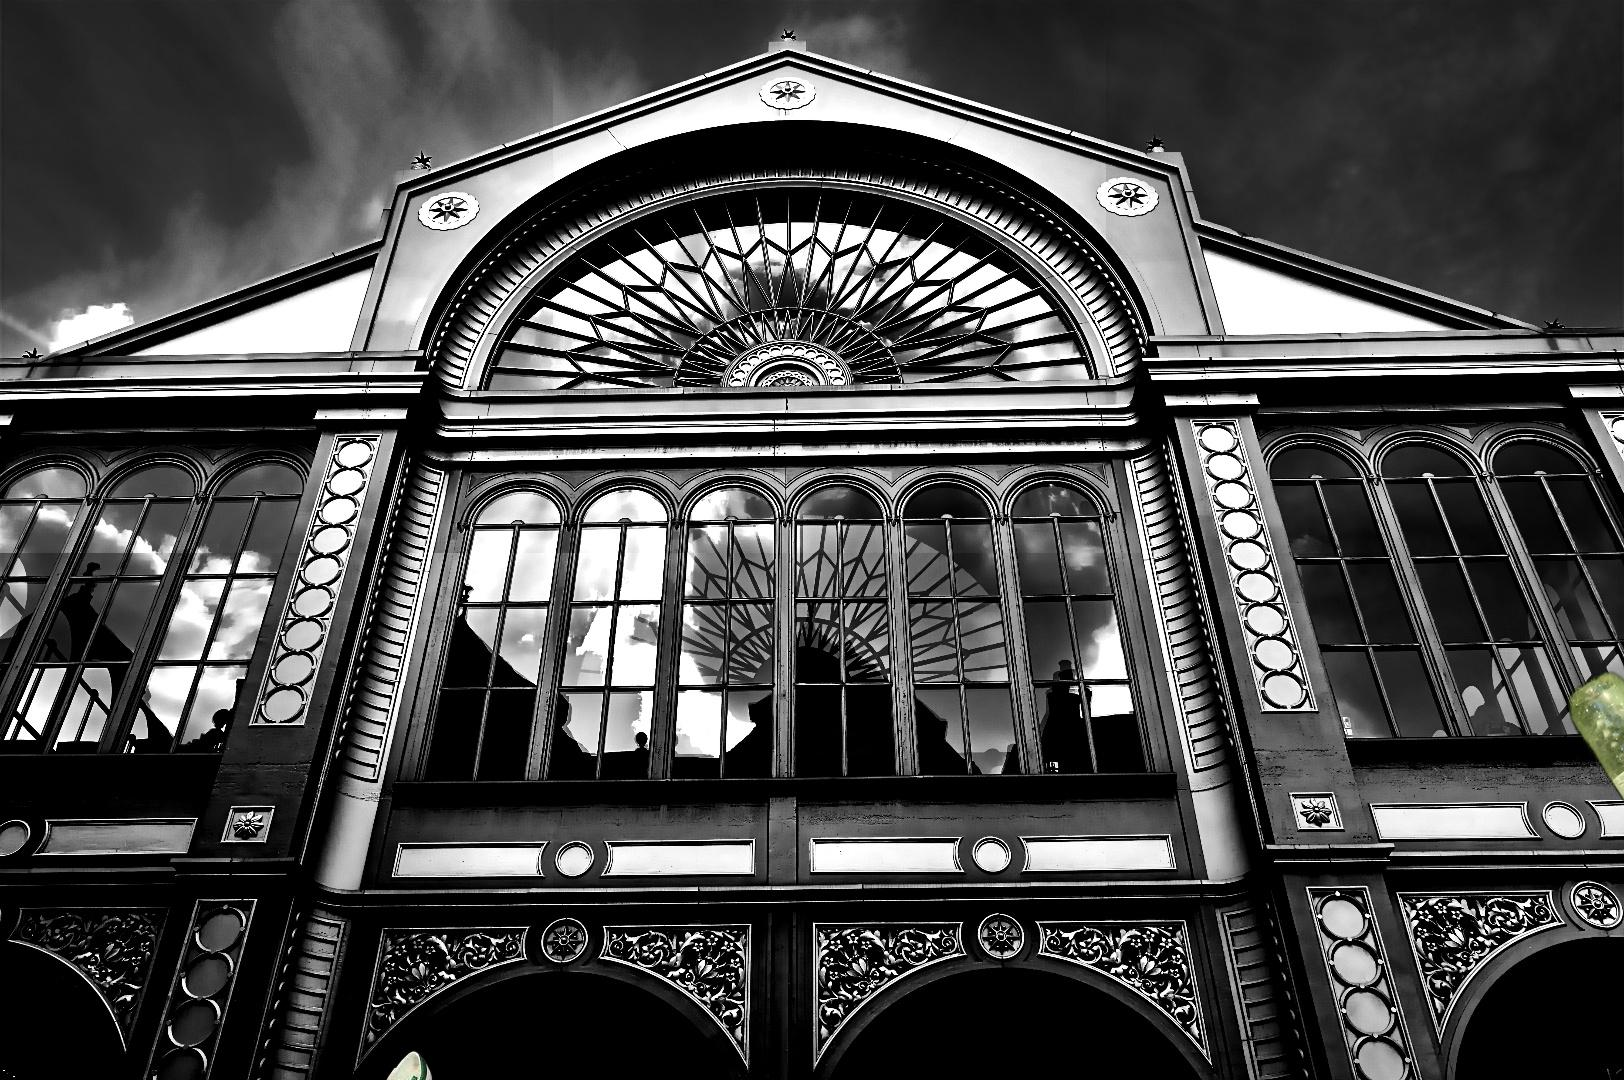plastic-bottles: (1563, 666, 1624, 875)
shoes: (352, 1048, 565, 1080)
